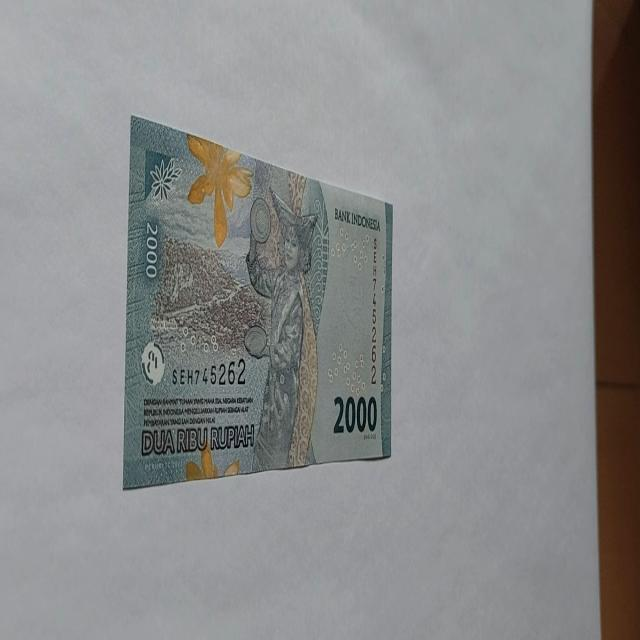dua ribu rupiah: (122, 115, 394, 489), (243, 187, 319, 473), (186, 132, 253, 248)
